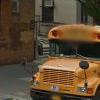Bus: (27, 18, 99, 100)
